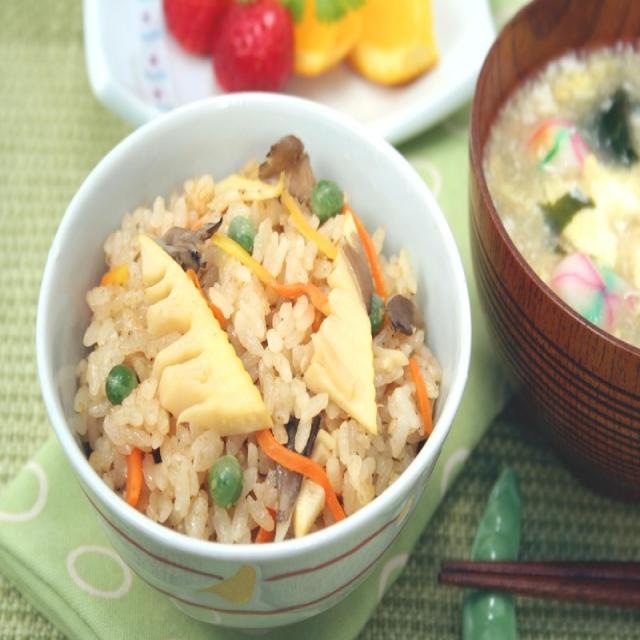汤锅炖物: (476, 2, 637, 508)
米饭主食: (34, 97, 478, 626)
